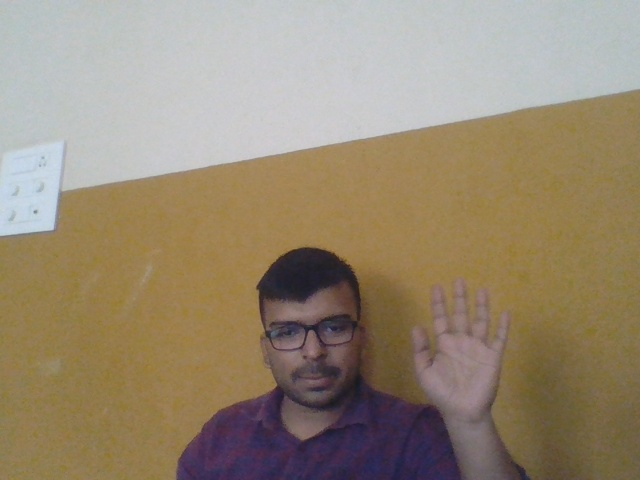Hello: (401, 268, 526, 440)
